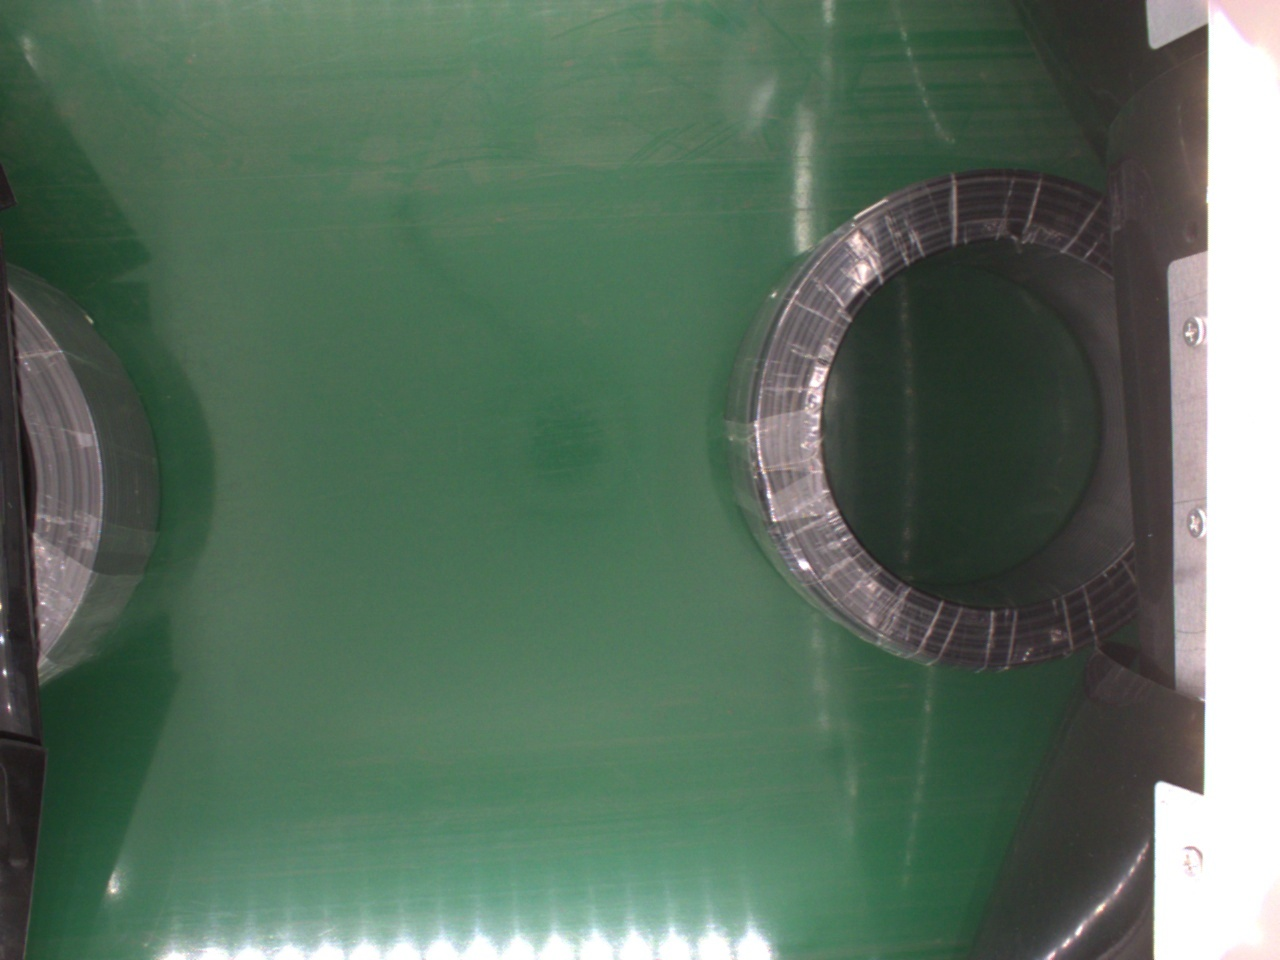black: (726, 169, 1137, 674), (10, 265, 161, 686)
